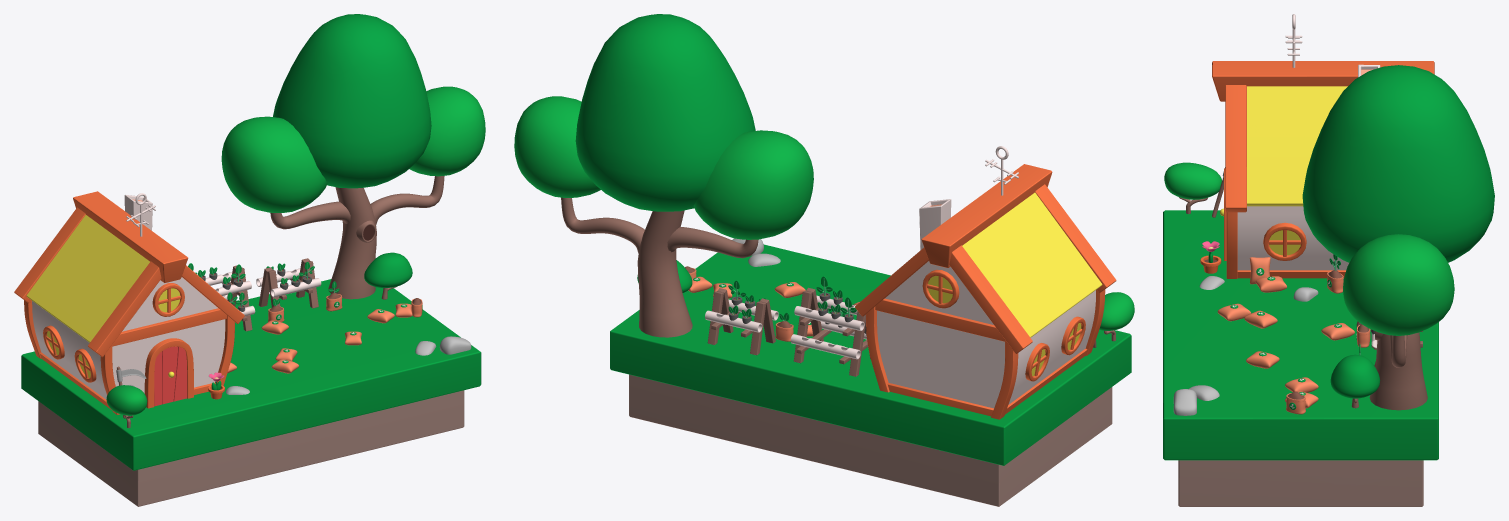
The model's file is Farm_Island_20.glb.
3 renders of one model, left to right at view 1: azimuth 30°, elevation 25°; view 2: azimuth 150°, elevation 25°; view 3: azimuth 270°, elevation 25°, orthographic. The views are drawn at different scales.
Parts seen in each view (by area): view 1: Farm_20_Base_1, Farm_20_Tree_1, Farm_20_House_1, Farm_20_Stand_for_Plants_1, Farm_20_Bush_1, Farm_20_Bush_2, Farm_20_Stand_for_Plants_2; view 2: Farm_20_Base_1, Farm_20_Tree_1, Farm_20_House_1, Farm_20_Stand_for_Plants_2, Farm_20_Stand_for_Plants_1, Farm_20_Bush_2; view 3: Farm_20_Base_1, Farm_20_Tree_1, Farm_20_House_1, Farm_20_Bush_2, Farm_20_Bush_1, Farm_20_Stone_2, Farm_20_Bag_1, Farm_20_Flower_1, Farm_20_Bag_with_Plant_1, Farm_20_Bag_2, Farm_20_Bag_8, Farm_20_Bag_7 (+4 smaller).
Boxes of the visible parts, left/top/right/bottom form: Farm_20_Base_1: left=21, top=279, right=481, bottom=506; Farm_20_Tree_1: left=221, top=14, right=485, bottom=299; Farm_20_House_1: left=14, top=191, right=244, bottom=414; Farm_20_Stand_for_Plants_1: left=256, top=258, right=321, bottom=308; Farm_20_Bush_1: left=364, top=252, right=412, bottom=299; Farm_20_Bush_2: left=106, top=385, right=147, bottom=428; Farm_20_Stand_for_Plants_2: left=205, top=265, right=255, bottom=331; Farm_20_Base_1: left=610, top=244, right=1131, bottom=506; Farm_20_Tree_1: left=514, top=14, right=813, bottom=337; Farm_20_House_1: left=855, top=164, right=1116, bottom=419; Farm_20_Stand_for_Plants_2: left=790, top=287, right=870, bottom=376; Farm_20_Stand_for_Plants_1: left=705, top=288, right=778, bottom=355; Farm_20_Bush_2: left=1099, top=292, right=1134, bottom=341; Farm_20_Base_1: left=1163, top=210, right=1438, bottom=506; Farm_20_Tree_1: left=1302, top=65, right=1494, bottom=410; Farm_20_House_1: left=1212, top=61, right=1434, bottom=278; Farm_20_Bush_2: left=1164, top=162, right=1221, bottom=213; Farm_20_Bush_1: left=1330, top=354, right=1380, bottom=408; Farm_20_Stone_2: left=1173, top=389, right=1196, bottom=415; Farm_20_Bag_1: left=1249, top=257, right=1270, bottom=284; Farm_20_Flower_1: left=1200, top=241, right=1221, bottom=273; Farm_20_Bag_with_Plant_1: left=1327, top=254, right=1343, bottom=293; Farm_20_Bag_2: left=1255, top=276, right=1286, bottom=292; Farm_20_Bag_8: left=1246, top=351, right=1279, bottom=368; Farm_20_Bag_7: left=1321, top=323, right=1354, bottom=340.
Bounding box in the file's own units: 15.45 × 11.28 × 8.
Materials: 40 (40 with a texture image).
